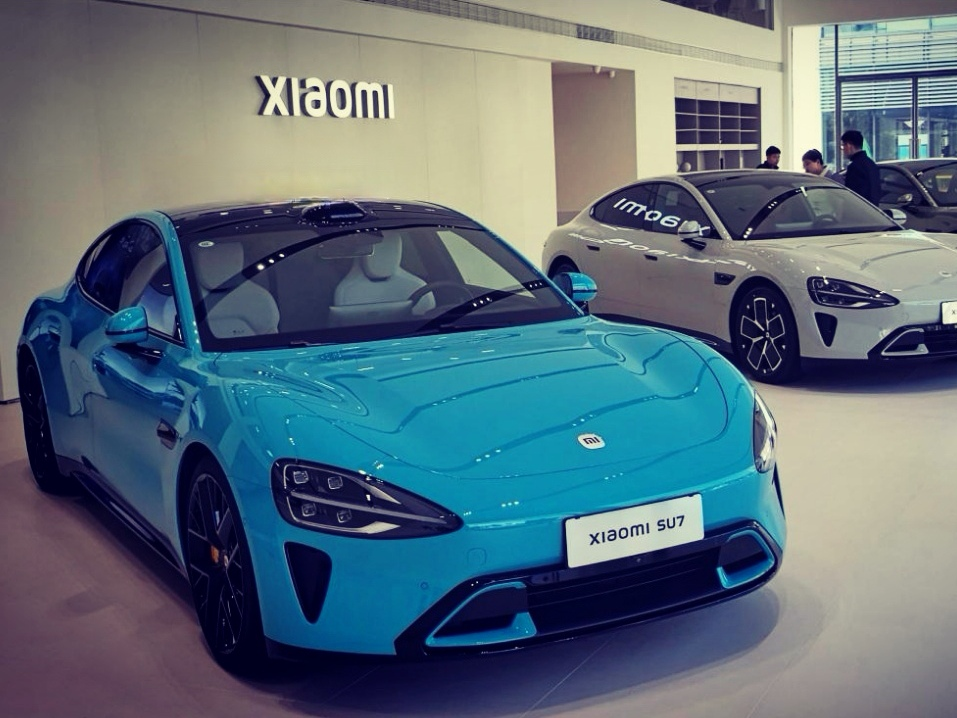su7: (19, 196, 794, 670), (551, 161, 957, 361)
